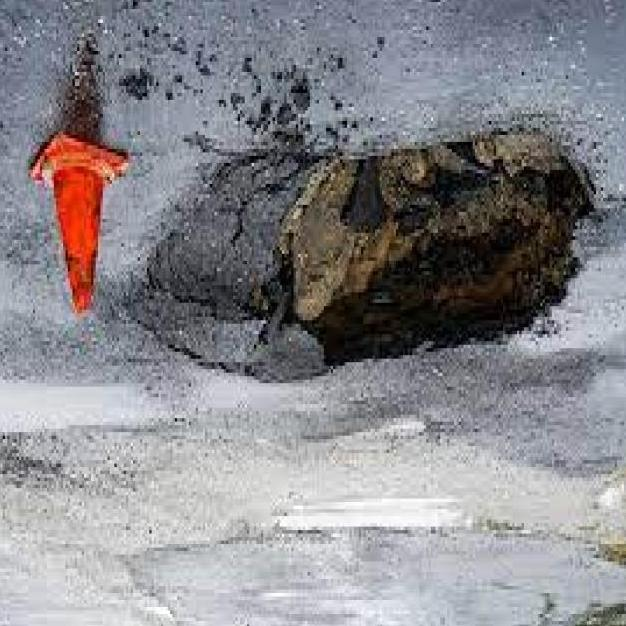pothole: (157, 112, 604, 386)
